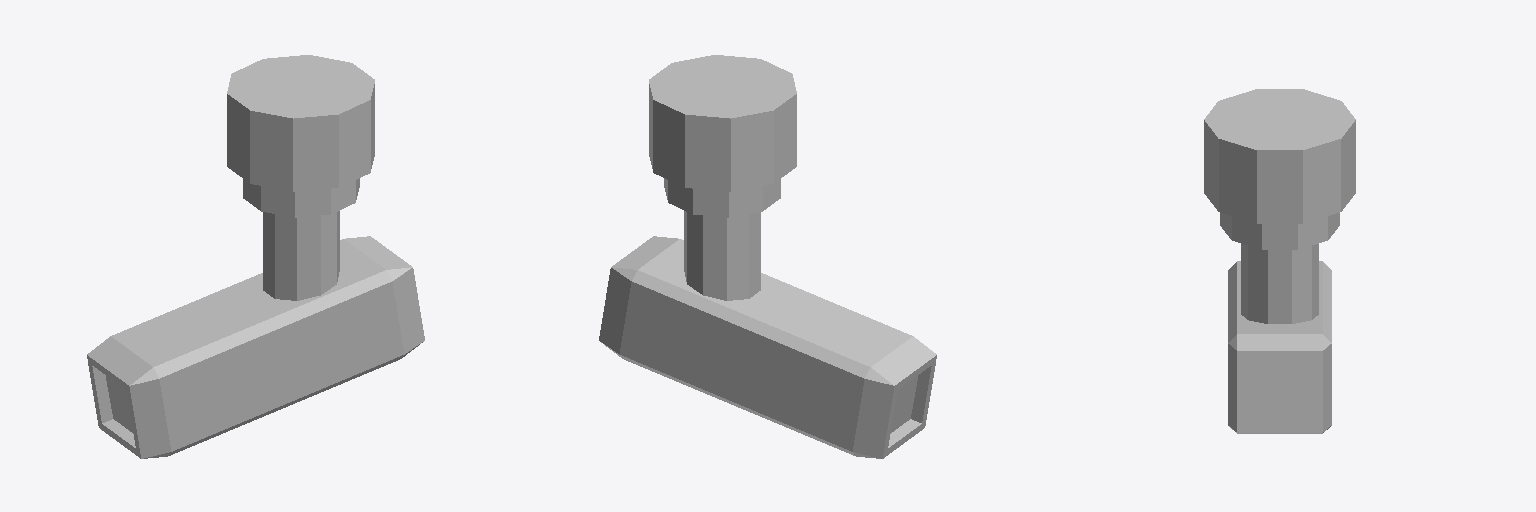
Rendered from camera.obj.
3 renders of one model, left to right at view 1: azimuth 30°, elevation 25°; view 2: azimuth 150°, elevation 25°; view 3: azimuth 270°, elevation 25°, orthographic.
Visible parts, largest first — view 1: Cube, Cylinder, Cube.001; view 2: Cube, Cylinder, Cube.001; view 3: Cylinder, Cube.
Boxes of the visible parts, <box> form: Cube: <box>87,236,424,458</box>; Cylinder: <box>227,55,374,300</box>; Cube.001: <box>106,376,132,432</box>; Cube: <box>599,236,936,458</box>; Cylinder: <box>649,55,796,300</box>; Cube.001: <box>891,376,917,432</box>; Cylinder: <box>1204,89,1355,323</box>; Cube: <box>1228,261,1331,433</box>.
Bounding box in the file's own units: 0.4604 × 0.4707 × 0.2048.